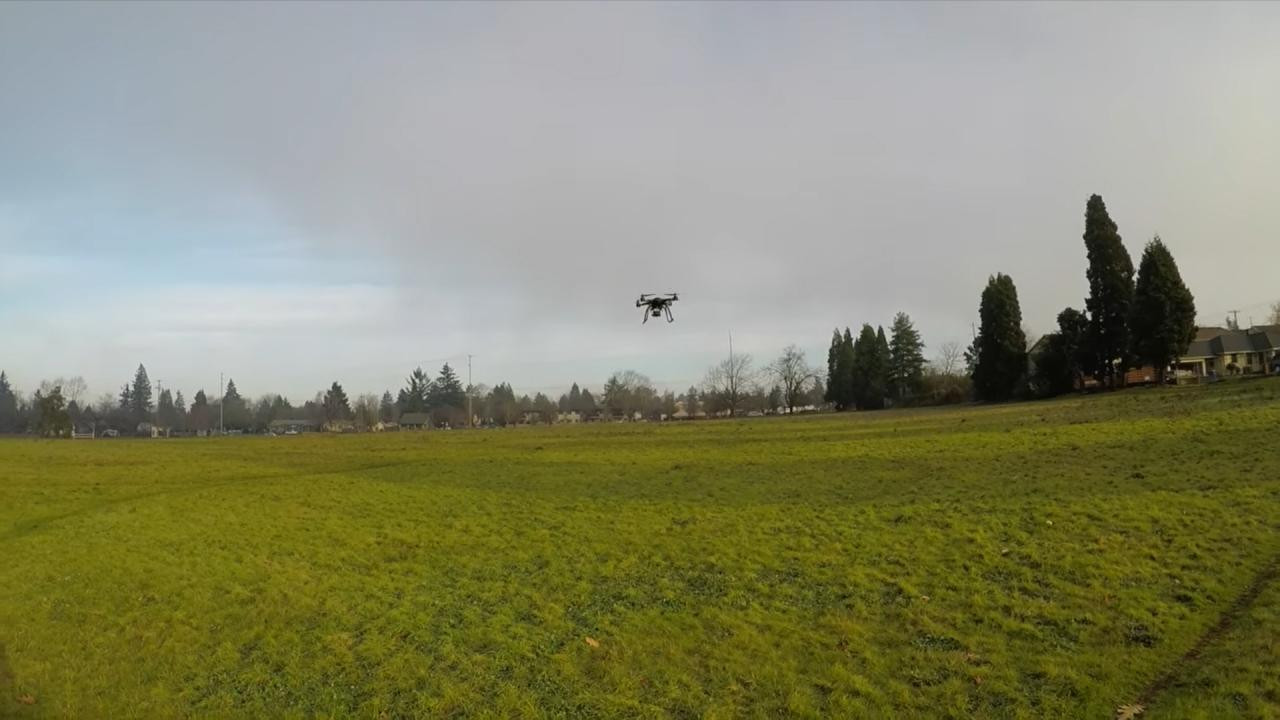Drone: (627, 286, 689, 330)
